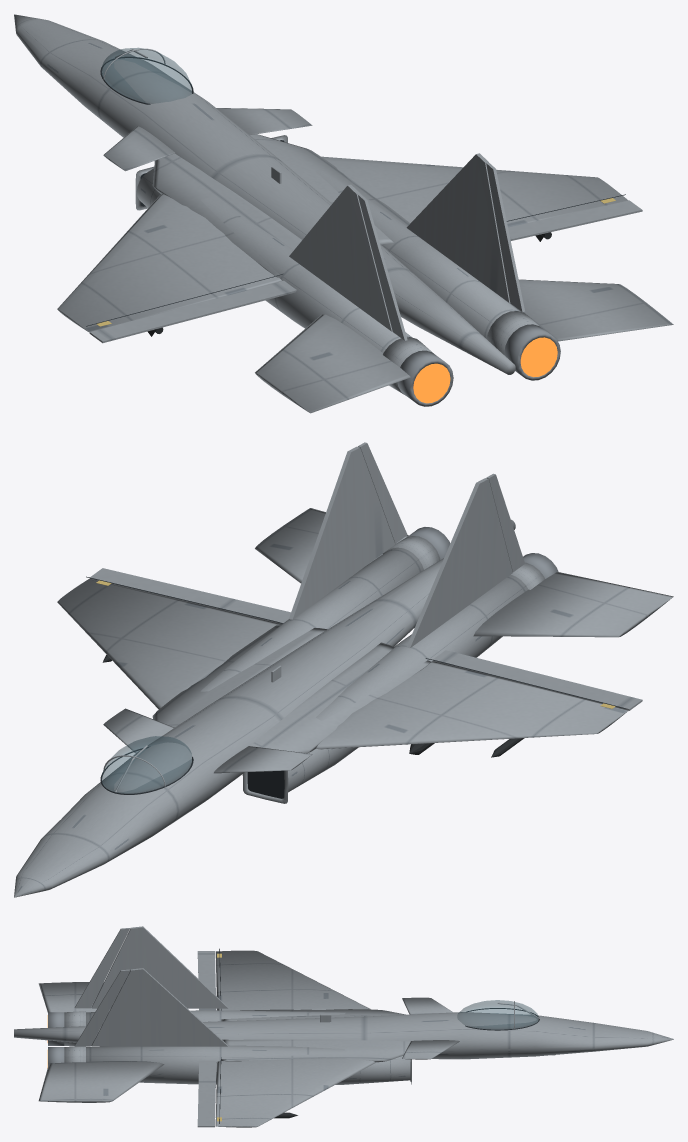
Rendered from wings_su34.glb.
3 views of the same model, one above another, from view 1: azimuth 30°, elevation 25°; view 2: azimuth 150°, elevation 25°; view 3: azimuth 270°, elevation 25° (orthographic). The views are drawn at different scales.
Parts seen in each view (by area): view 1: airframe_static, tailplane_L, tailplane_R, canopy, elevon_L, elevon_R, canard_L, canard_R, rudder_2, rudder_1, afterburner_R, afterburner_L; view 2: airframe_static, tailplane_L, canopy, elevon_L, elevon_R, tailplane_R, canard_L, canard_R, rudder_2, rudder_1; view 3: airframe_static, tailplane_R, canopy, tailplane_L, elevon_R, rudder_1, rudder_2, canard_R, elevon_L, canard_L.
Boxes of the visible parts, bbox=[...] form: airframe_static: bbox=[14, 14, 628, 406]; tailplane_L: bbox=[255, 314, 410, 413]; tailplane_R: bbox=[509, 279, 673, 341]; canopy: bbox=[100, 47, 193, 104]; elevon_L: bbox=[89, 280, 296, 343]; elevon_R: bbox=[508, 200, 642, 240]; canard_L: bbox=[103, 126, 175, 171]; canard_R: bbox=[216, 108, 312, 134]; rudder_2: bbox=[486, 162, 524, 311]; rudder_1: bbox=[357, 194, 407, 340]; afterburner_R: bbox=[520, 337, 557, 377]; afterburner_L: bbox=[413, 363, 450, 403]; airframe_static: bbox=[14, 446, 628, 897]; tailplane_L: bbox=[473, 572, 673, 637]; canopy: bbox=[100, 736, 193, 794]; elevon_L: bbox=[433, 650, 642, 710]; elevon_R: bbox=[89, 568, 290, 624]; tailplane_R: bbox=[255, 508, 408, 583]; canard_L: bbox=[214, 746, 312, 773]; canard_R: bbox=[103, 708, 174, 753]; rudder_2: bbox=[358, 442, 407, 543]; rudder_1: bbox=[486, 473, 524, 572]; airframe_static: bbox=[14, 926, 673, 1127]; tailplane_R: bbox=[38, 1061, 164, 1102]; canopy: bbox=[457, 1000, 539, 1030]; tailplane_L: bbox=[38, 982, 110, 1012]; elevon_R: bbox=[197, 1060, 216, 1127]; rudder_1: bbox=[74, 928, 130, 1008]; rudder_2: bbox=[74, 969, 129, 1046]; canard_R: bbox=[402, 1040, 459, 1059]; elevon_L: bbox=[197, 951, 216, 1010]; canard_L: bbox=[402, 997, 452, 1014].
Bounding box in the file's own units: 14.7 × 4.6 × 23.4.
Materials: 7 (1 with a texture image).
